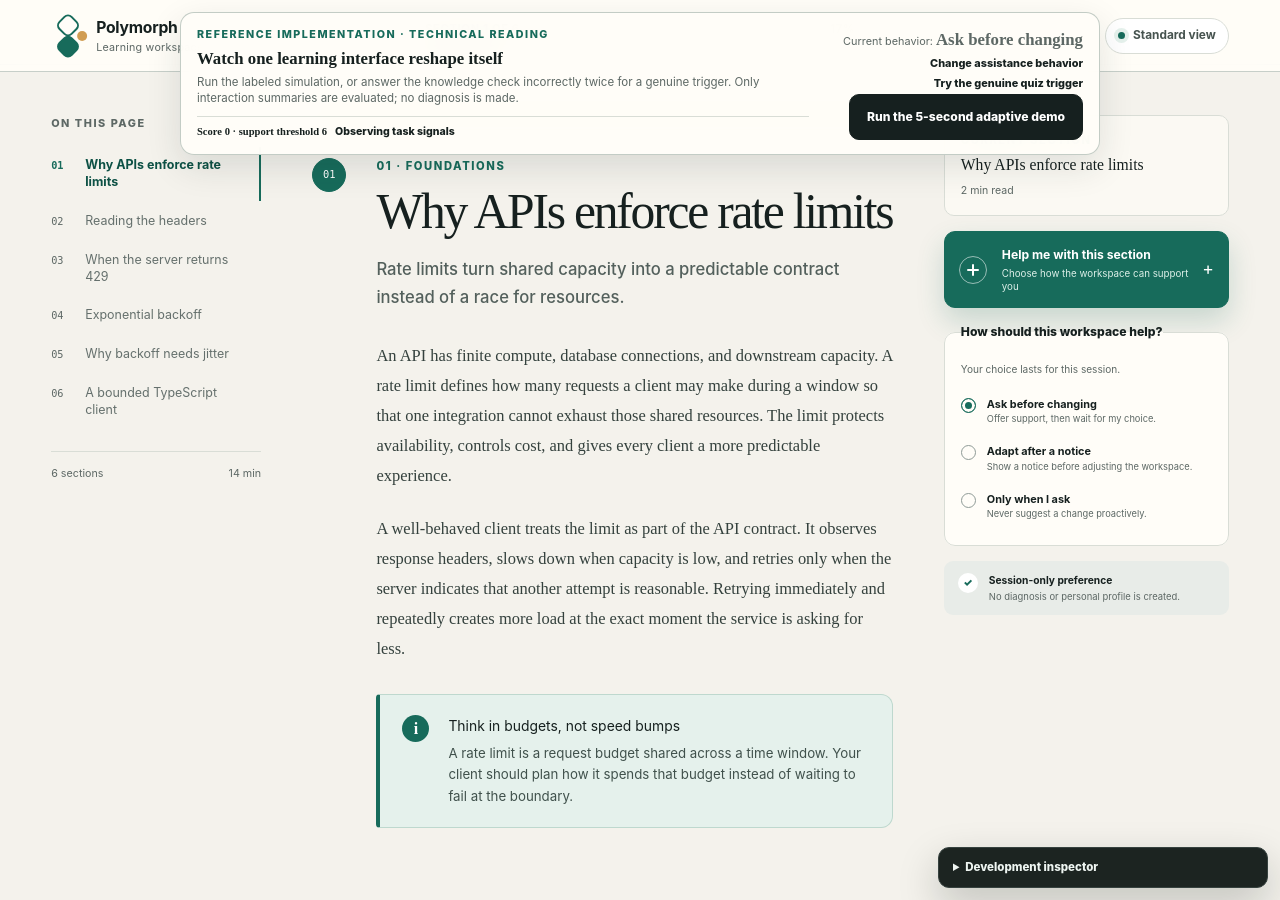
Test case: AdaptiveWorkspace learner journey › keeps direct manual help available in manual-only mode and falls back safely
Click the radio button labelled "Only when I ask Never suggest a change proactively.": (1054, 506) [961, 492, 1147, 519]
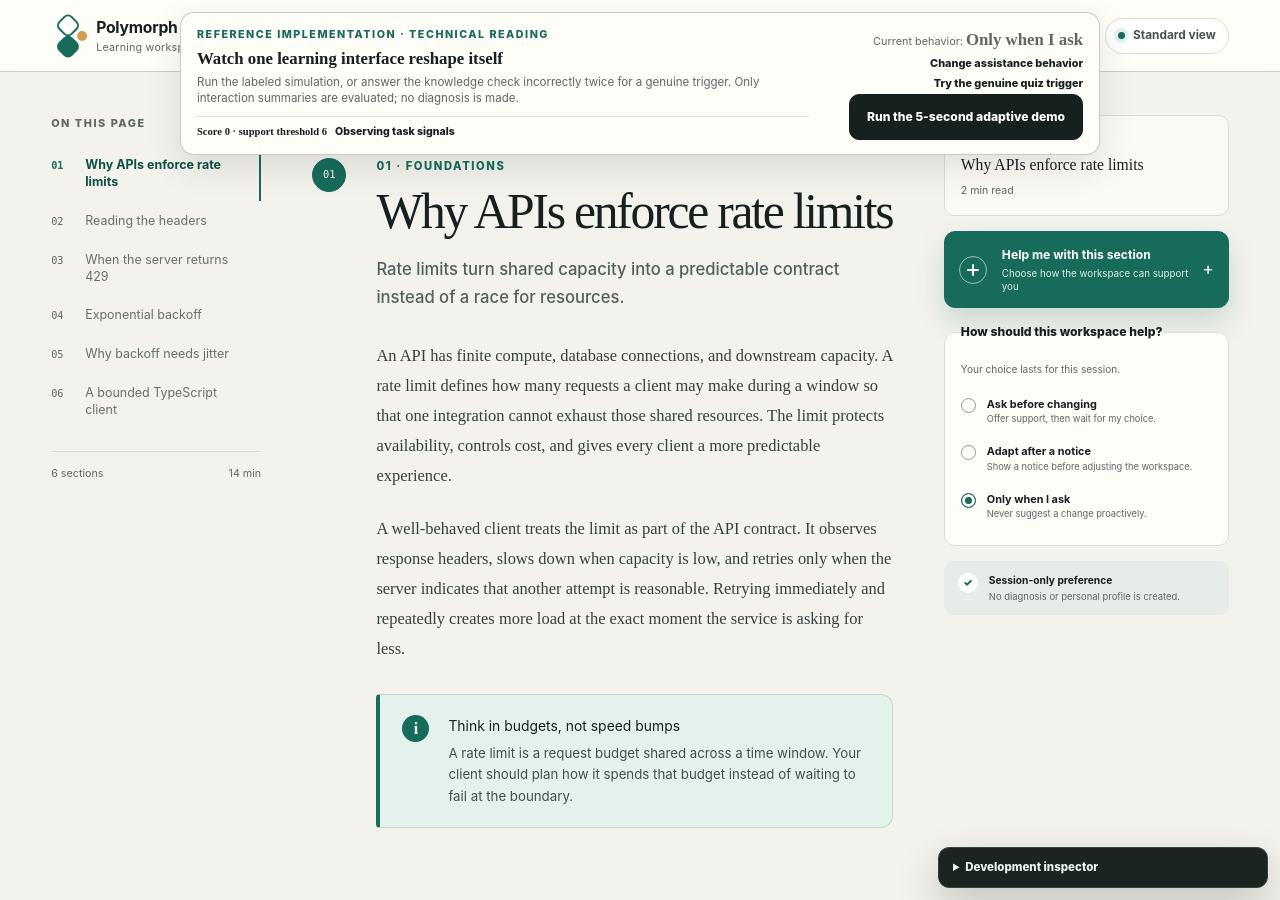
Click the button "Help me with this section": (1086, 270) [944, 231, 1229, 308]
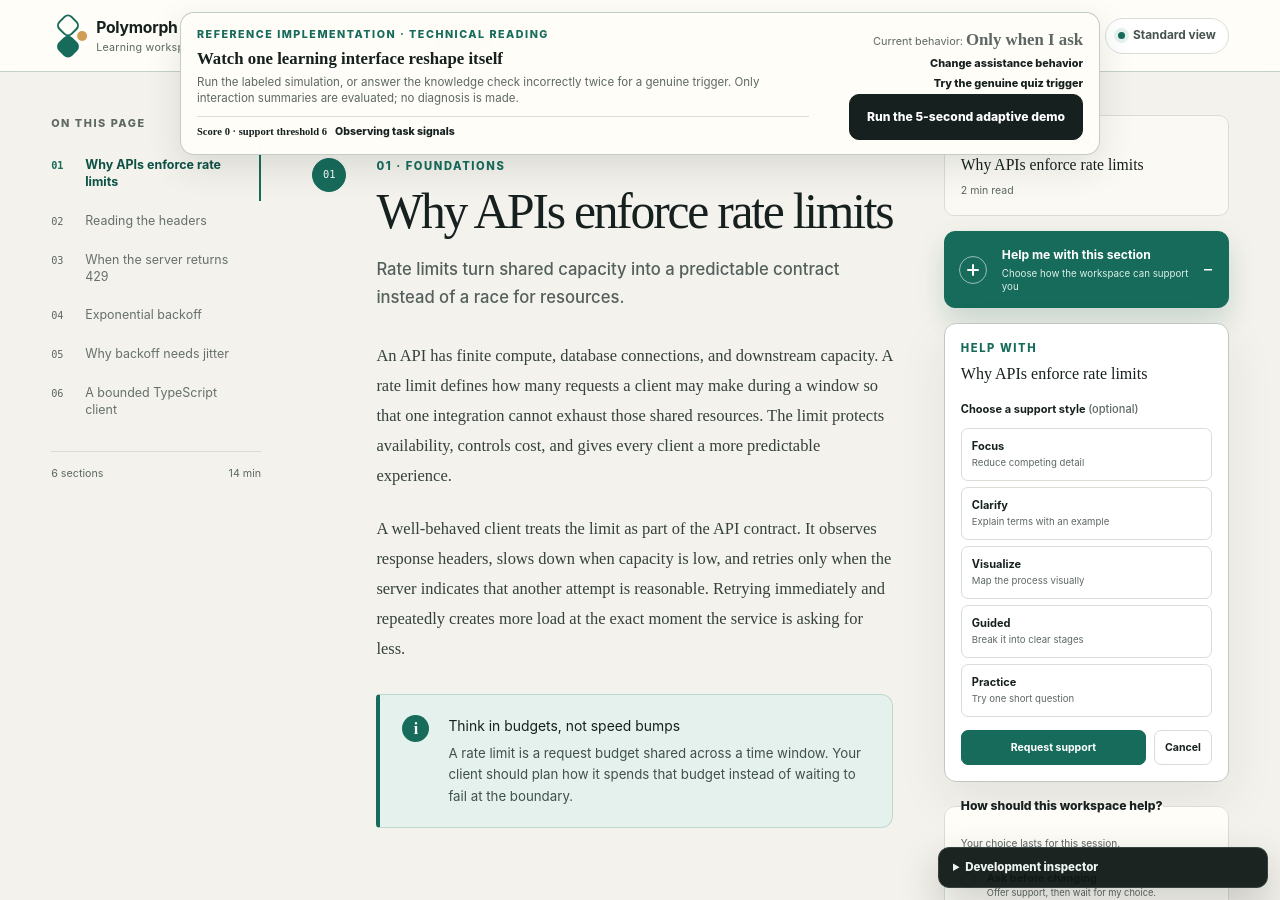
Click the radio button labelled "Clarify Explain terms with an example": (1086, 513) [961, 487, 1212, 540]
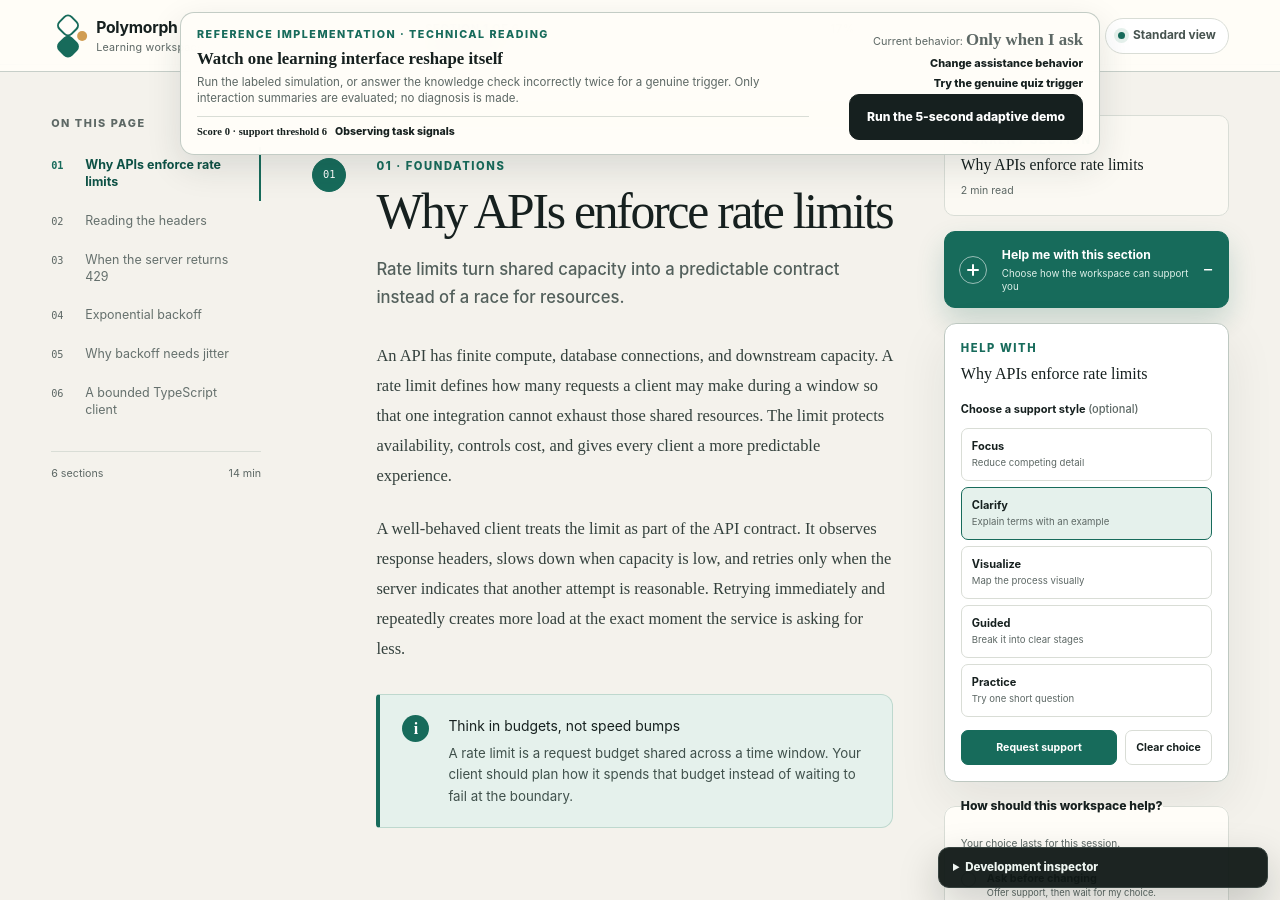
Click the button "Request support": (1039, 747) [961, 730, 1117, 765]
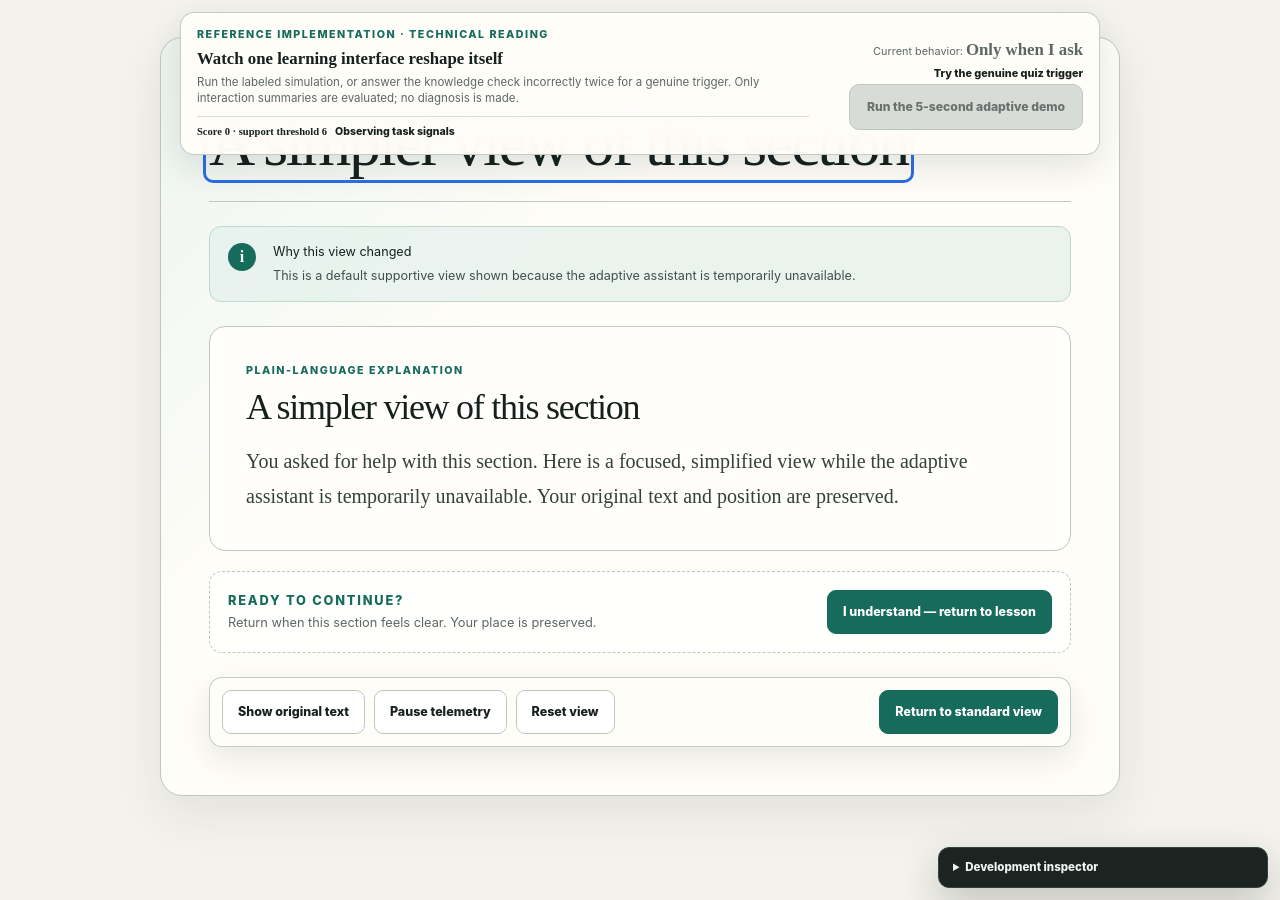
Check: the heading "A simpler view of this section" below "Adapted learning view" is shown, box [209, 111, 908, 177]
